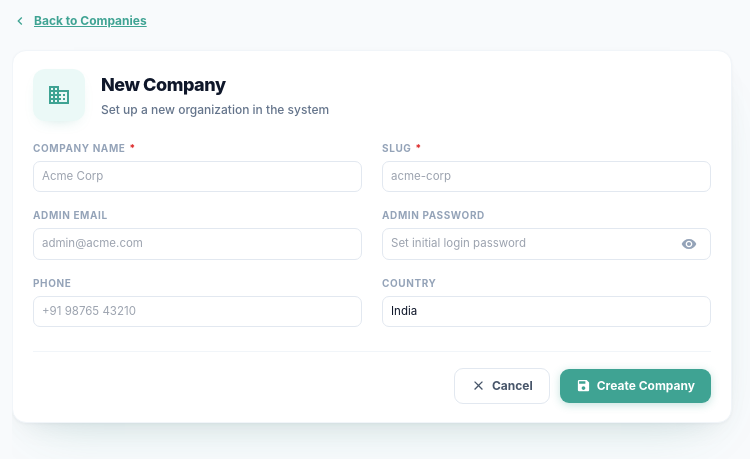
NewCompanyPage › auto-generates slug from company name
The width and height of the screenshot is (750, 459).
Type "My New Company" into the field with placeholder "Acme Corp". click: {"x": 198, "y": 177}
box: [33,161,362,192]
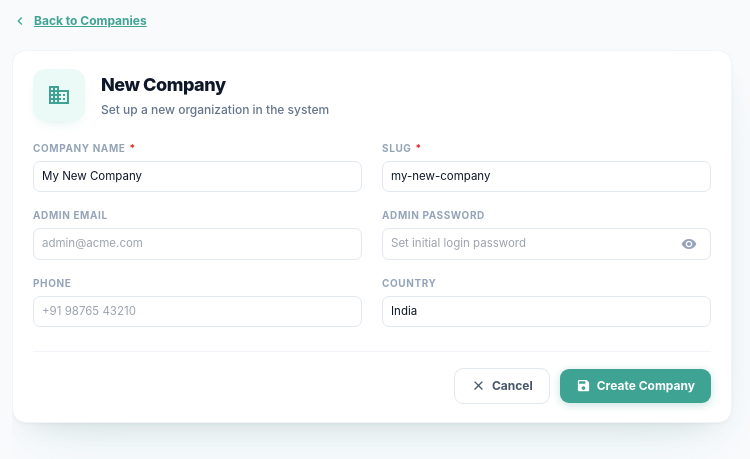
Now the field below "Slug" holds "my-new-company", box [382,161,711,192]
